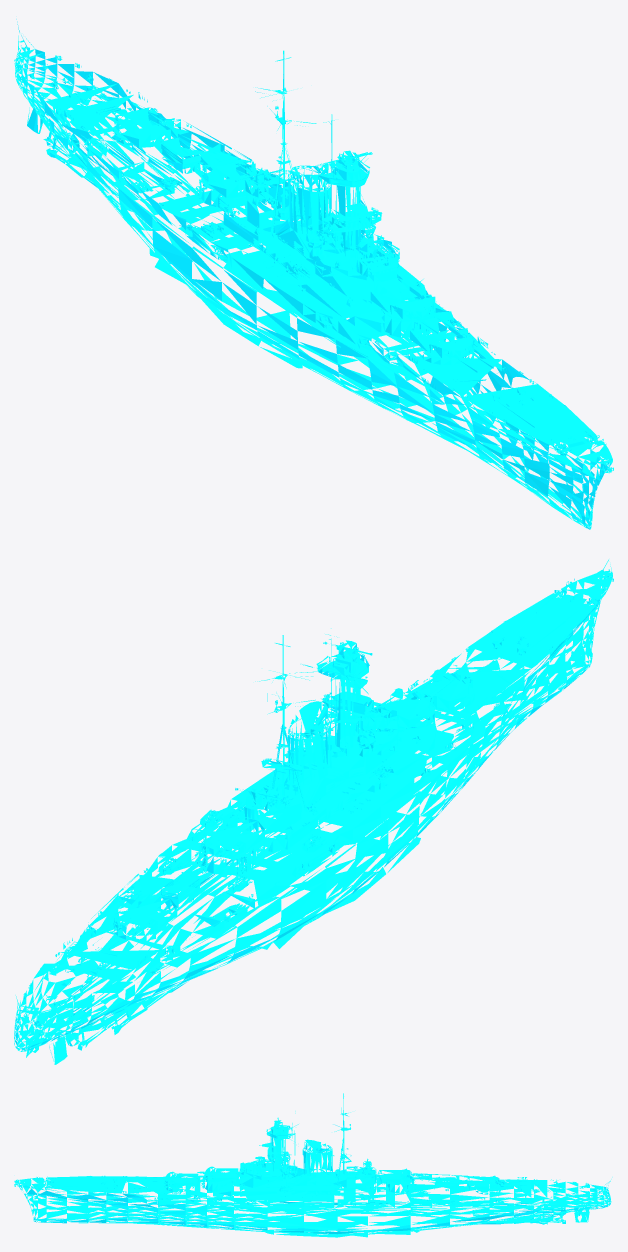
The model's file is PGSB207.glb.
The picture shows the model from 3 angles, top to bottom: view 1: azimuth 30°, elevation 25°; view 2: azimuth 150°, elevation 25°; view 3: azimuth 270°, elevation 25°; orthographic projection. The views are drawn at different scales.
Visible parts, largest first — view 1: hull, turret; view 2: hull, turret; view 3: hull, turret.
Part boxes in pixels (left/top/right/bottom): hull: left=14, top=19, right=613, bottom=529; turret: left=81, top=94, right=493, bottom=372; hull: left=14, top=559, right=613, bottom=1064; turret: left=87, top=656, right=494, bottom=959; hull: left=14, top=1093, right=612, bottom=1237; turret: left=139, top=1165, right=526, bottom=1206.
Size of the model in its own units: 2.07 by 3.73 by 15.79.
